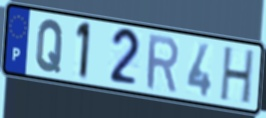1: (73, 21, 94, 83)
2: (106, 27, 145, 90)
4: (185, 42, 214, 100)
H: (218, 45, 257, 107)
Q: (34, 18, 66, 76)
R: (145, 33, 181, 96)
